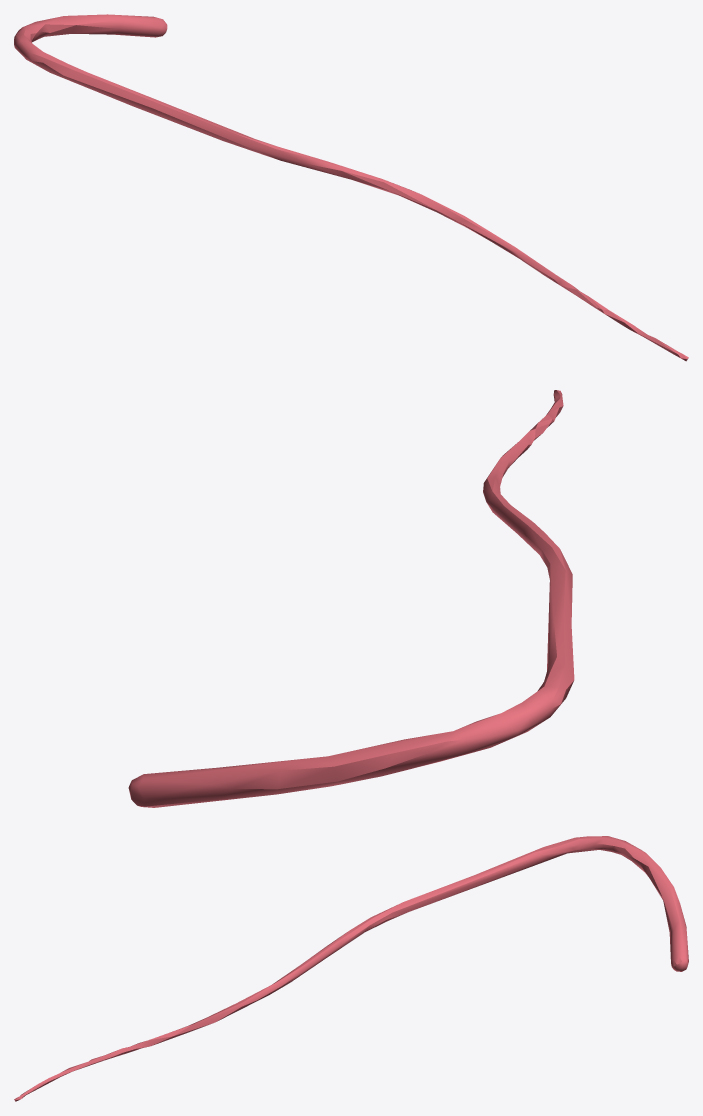
The model's file is fma78121_fj3650.glb.
The picture shows the model from 3 angles, top to bottom: view 1: azimuth 30°, elevation 25°; view 2: azimuth 150°, elevation 25°; view 3: azimuth 270°, elevation 25°; orthographic projection. The views are drawn at different scales.
Parts seen in each view (by area): view 1: FMA78121_FJ3650; view 2: FMA78121_FJ3650; view 3: FMA78121_FJ3650.
Part boxes in pixels (x1,y1,x2,y2): FMA78121_FJ3650: (14,14,688,361); FMA78121_FJ3650: (128,390,574,807); FMA78121_FJ3650: (14,836,688,1101).
Size of the model in its own units: 0.0354 by 0.0153 by 0.072.
